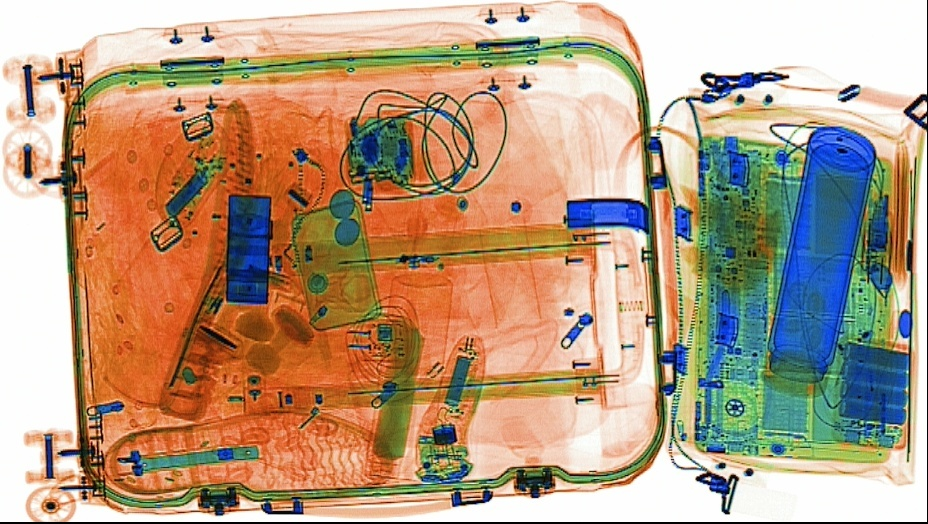powerbank: (831, 326, 914, 446)
